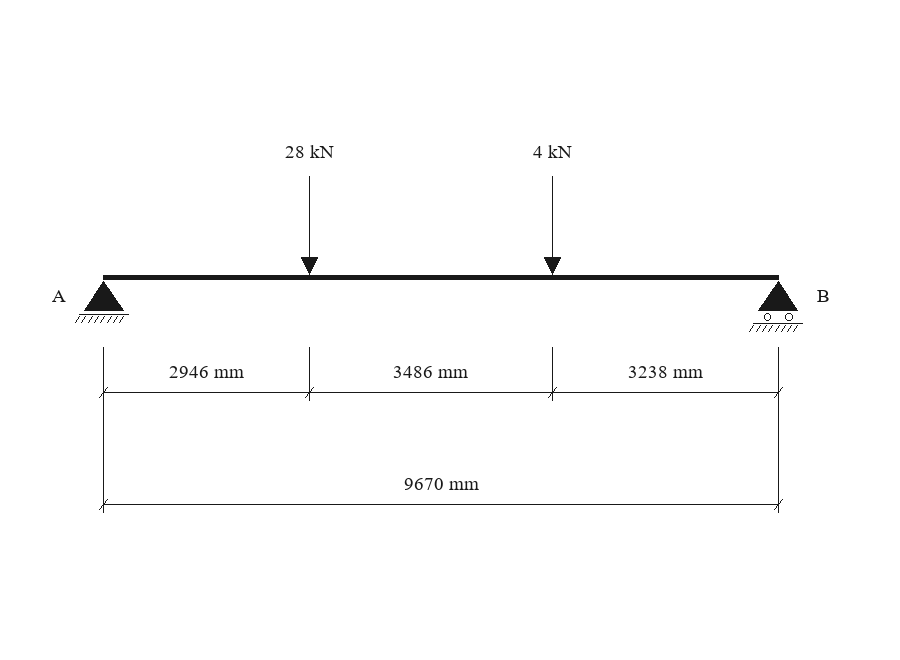pin_support: (75, 281, 129, 323)
point_load: (301, 176, 318, 275), (544, 176, 561, 275)
roller_support: (749, 281, 803, 332)
